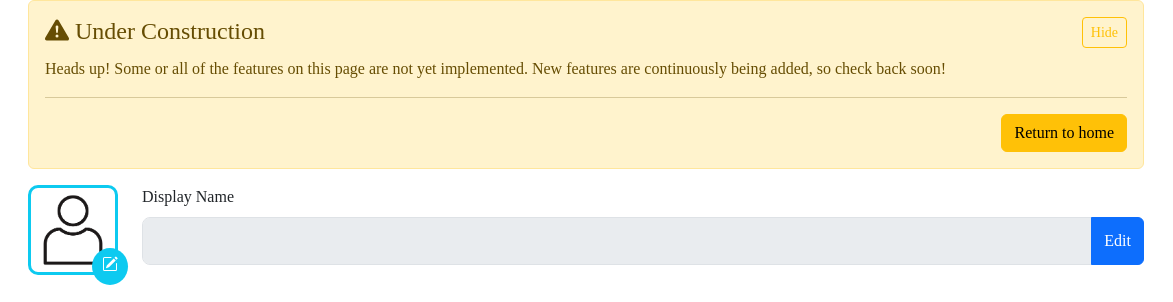
Scenario: UserAcount › cancels update displayname
This screenshot has width=1173, height=302.
Click the button with test id "edit-display-name-btn" at {"x": 1118, "y": 241}, box left=1091, top=217, right=1144, bottom=265
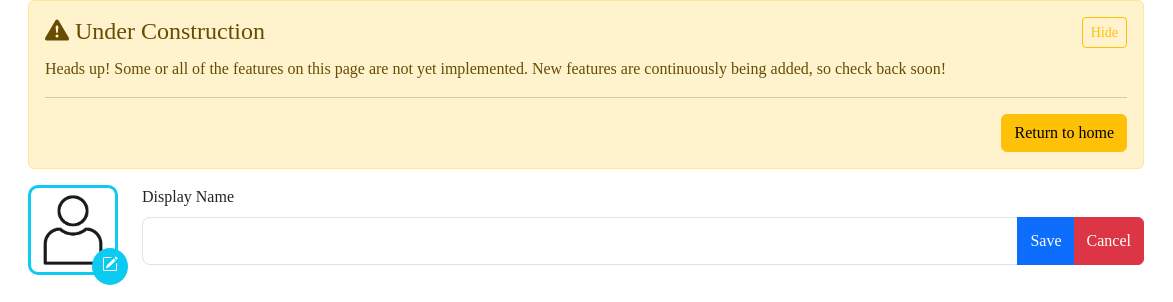
Type "test" into the field with test id "display-name-input" at {"x": 580, "y": 241}, box left=142, top=217, right=1018, bottom=265
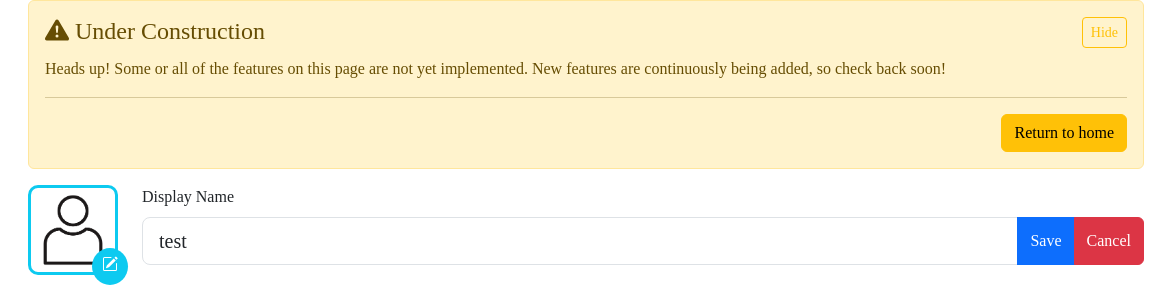
Click the button with test id "cancel-edit-display-name-btn" at {"x": 1109, "y": 241}, box left=1074, top=217, right=1144, bottom=265
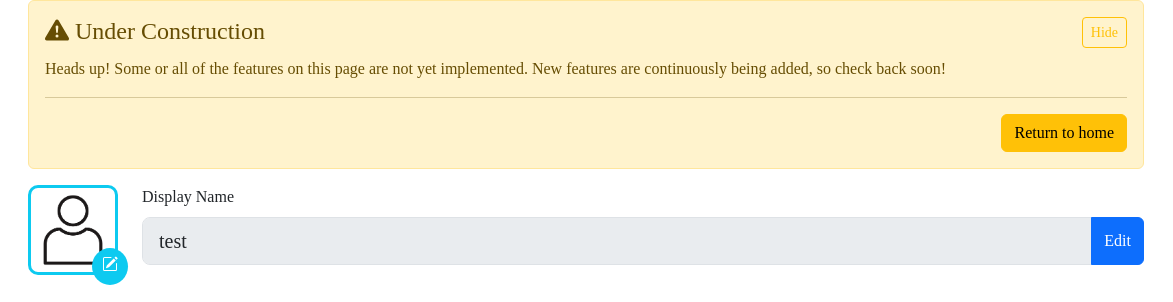
Check: the field with test id "display-name-input" is disabled, box left=142, top=217, right=1092, bottom=265
